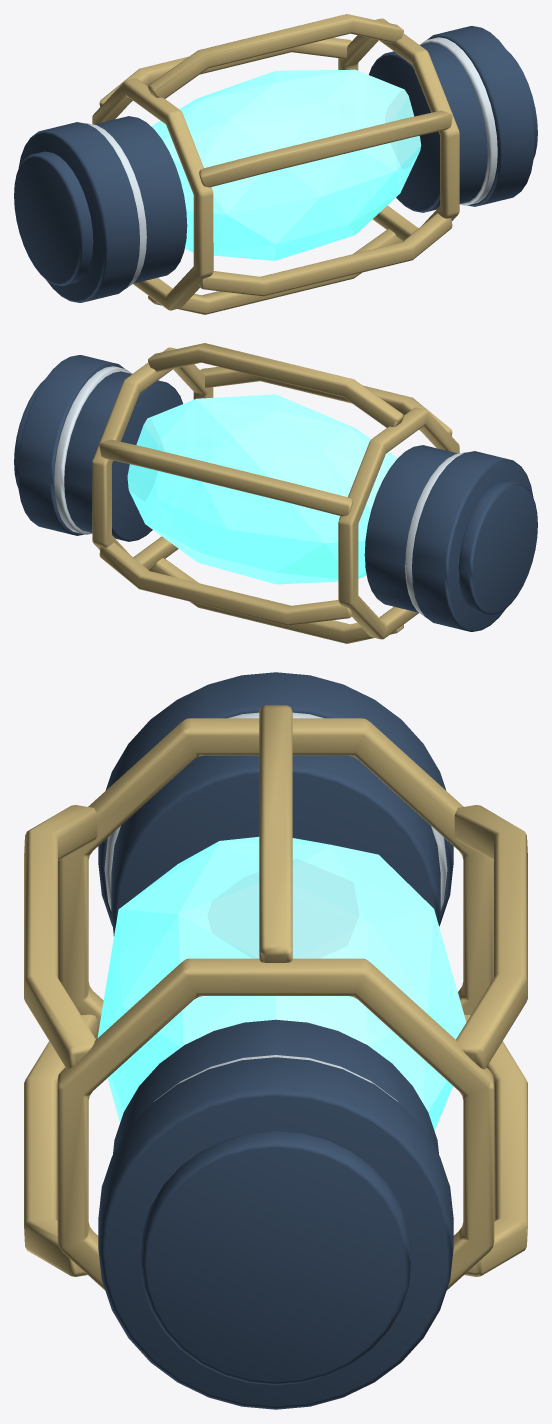
Rendered from a-handheld-magical-star-cell-for-a-stylized.glb.
3 views of the same model, one above another, from view 1: azimuth 30°, elevation 25°; view 2: azimuth 150°, elevation 25°; view 3: azimuth 270°, elevation 25° (orthographic). The views are drawn at different scales.
Visible parts, largest first — view 1: brass_cage, crystal_core, left_endcap, right_endcap; view 2: crystal_core, brass_cage, left_endcap, right_endcap; view 3: right_endcap, brass_cage, crystal_core, left_endcap.
Part boxes in pixels (x1=…): brass_cage: x1=92, y1=14, x2=459, y2=314; crystal_core: x1=151, y1=69, x2=421, y2=260; left_endcap: x1=14, y1=116, x2=187, y2=302; right_endcap: x1=369, y1=26, x2=537, y2=212; crystal_core: x1=127, y1=394, x2=397, y2=584; brass_cage: x1=92, y1=343, x2=459, y2=643; left_endcap: x1=364, y1=445, x2=537, y2=631; right_endcap: x1=14, y1=355, x2=182, y2=541; right_endcap: x1=98, y1=1019, x2=453, y2=1409; brass_cage: x1=24, y1=705, x2=527, y2=1290; crystal_core: x1=97, y1=836, x2=466, y2=1130; left_endcap: x1=98, y1=672, x2=453, y2=935.
Size of the model in its own units: 2 by 1.09 by 0.9513.
